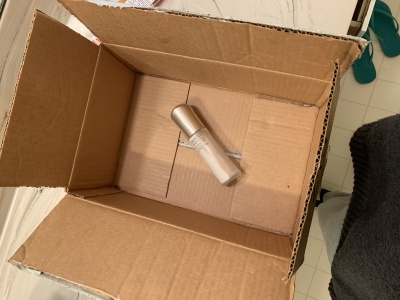innerbox: (96, 61, 307, 224)
outerbox: (14, 6, 341, 290)
product: (171, 103, 241, 185)
